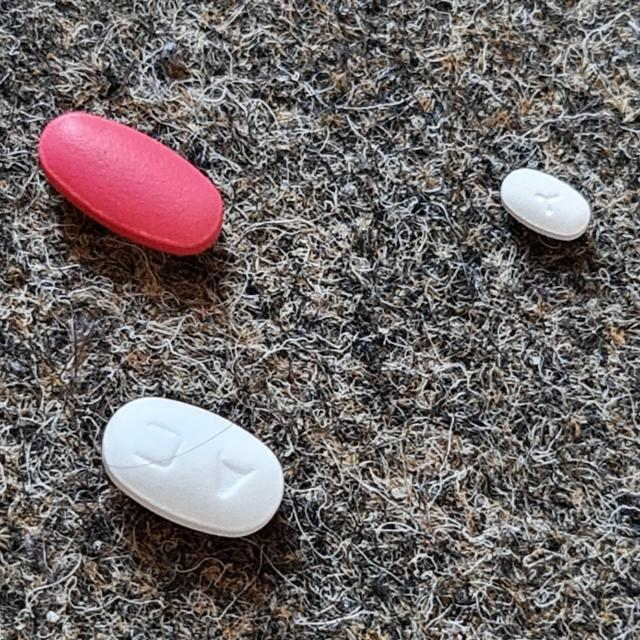pill: (40, 112, 224, 254), (105, 398, 283, 536), (503, 168, 593, 242)
